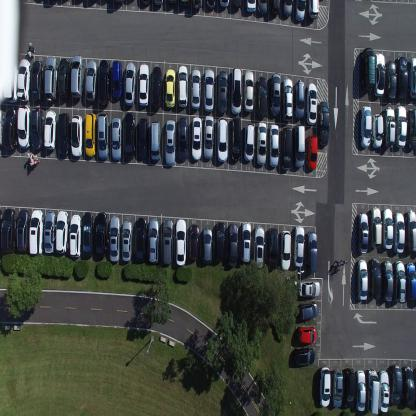car: (0, 207, 16, 254), (360, 46, 376, 90), (29, 208, 43, 255), (44, 56, 58, 102), (16, 208, 30, 254), (230, 66, 243, 115), (17, 57, 31, 102), (3, 108, 17, 152), (55, 210, 69, 254), (402, 366, 416, 409), (366, 368, 379, 414), (57, 111, 70, 157), (164, 118, 176, 167), (98, 58, 110, 107), (30, 60, 44, 102), (43, 108, 57, 150), (135, 216, 147, 265), (95, 211, 107, 260), (70, 54, 83, 99), (124, 111, 136, 159), (147, 218, 159, 266), (109, 215, 121, 263), (82, 211, 94, 259), (280, 126, 293, 170), (70, 113, 83, 157), (57, 56, 70, 100), (4, 60, 17, 104), (17, 105, 30, 149), (175, 219, 187, 266), (97, 113, 109, 160), (368, 257, 381, 300), (355, 258, 368, 301), (292, 224, 305, 267), (43, 210, 56, 253), (203, 114, 215, 160), (84, 111, 96, 157), (369, 206, 382, 248), (356, 212, 369, 254), (266, 226, 278, 271), (226, 222, 238, 267), (124, 61, 136, 106), (30, 107, 43, 148), (217, 115, 228, 163), (253, 226, 265, 270), (162, 218, 173, 266), (404, 209, 416, 253), (394, 260, 406, 304), (354, 368, 366, 412), (85, 59, 97, 103), (394, 105, 406, 148), (360, 105, 372, 148), (279, 228, 291, 271), (121, 219, 133, 262), (318, 100, 329, 146), (393, 212, 405, 254), (342, 366, 354, 408), (319, 366, 331, 408), (305, 230, 317, 272), (256, 121, 267, 166), (203, 67, 214, 112), (177, 63, 188, 108), (70, 214, 81, 259), (214, 221, 226, 262), (385, 60, 397, 101), (390, 365, 402, 406), (164, 68, 176, 109), (191, 116, 202, 160), (397, 56, 408, 100), (382, 260, 393, 304), (270, 72, 281, 116), (282, 77, 293, 121), (294, 124, 305, 168), (151, 65, 162, 109), (138, 63, 149, 107), (138, 116, 149, 160), (111, 116, 122, 160), (243, 69, 254, 112), (217, 70, 228, 113), (306, 82, 317, 125), (231, 115, 241, 162), (240, 220, 251, 262), (383, 106, 394, 148), (382, 208, 393, 250), (150, 120, 161, 162), (292, 346, 315, 366), (256, 76, 267, 117), (178, 116, 188, 161), (375, 52, 385, 96), (331, 368, 342, 408), (294, 79, 305, 119), (406, 108, 416, 151), (379, 369, 389, 412), (299, 300, 318, 322), (298, 278, 320, 297), (191, 68, 201, 109), (405, 262, 415, 303), (112, 59, 122, 100), (188, 224, 199, 261), (201, 227, 212, 264), (372, 112, 383, 149), (244, 122, 254, 162), (307, 133, 317, 171), (296, 325, 316, 343), (408, 57, 416, 99), (294, 0, 306, 23), (307, 0, 319, 20), (281, 0, 293, 19), (269, 0, 281, 17), (257, 0, 268, 16), (245, 0, 257, 14), (0, 108, 4, 149), (192, 0, 204, 10), (206, 0, 216, 11), (218, 0, 230, 9), (232, 0, 242, 10), (179, 0, 192, 7), (153, 0, 164, 8), (141, 0, 151, 8), (166, 0, 177, 7)
